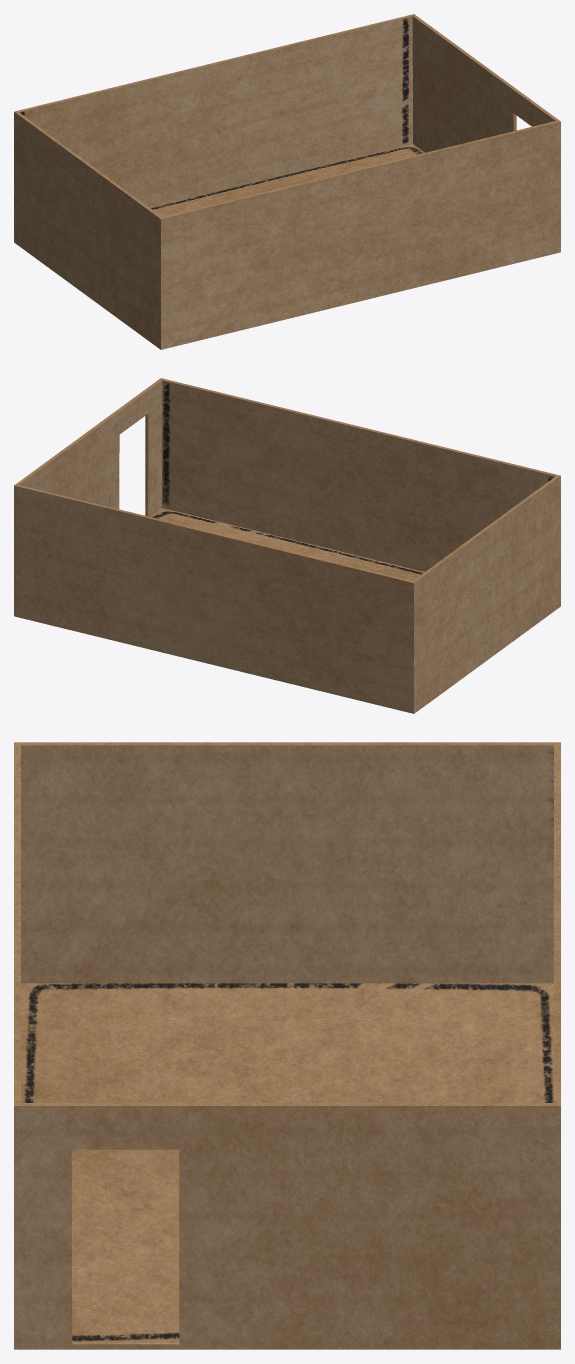
Rendered from 20s_Room2.fbx.
3 renders of one model, top to bottom at view 1: azimuth 30°, elevation 25°; view 2: azimuth 150°, elevation 25°; view 3: azimuth 270°, elevation 25°, orthographic. The views are drawn at different scales.
Parts seen in each view (by area): view 1: Room_level2; view 2: Room_level2; view 3: Room_level2.
Boxes of the visible parts, x1=… form: Room_level2: x1=14, y1=14, x2=560, y2=349; Room_level2: x1=14, y1=378, x2=560, y2=713; Room_level2: x1=14, y1=742, x2=560, y2=1349.
Bounding box in the file's own units: 1600 × 500 × 1018.
1 material, 1 textured.
